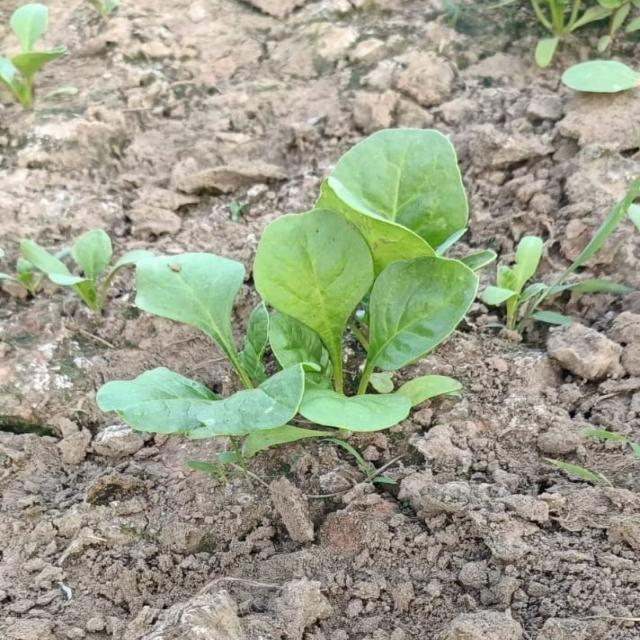plant: (96, 130, 492, 451)
